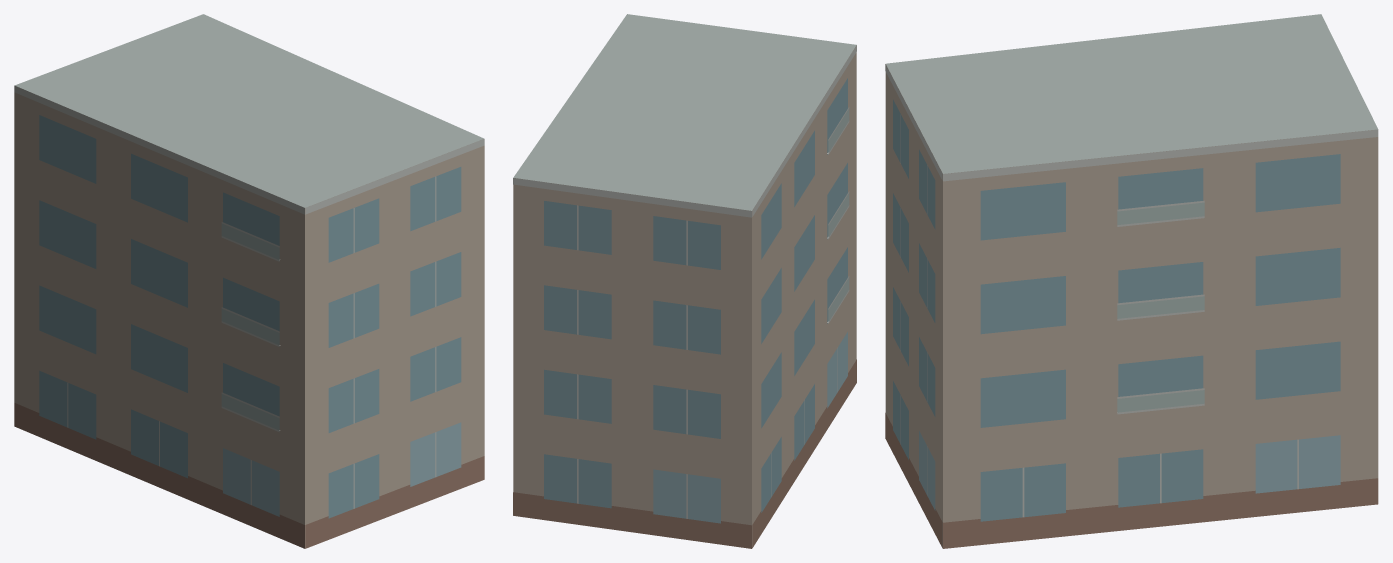
File: survey-upis-33032766.glb
3 renders of one model, left to right at view 1: azimuth 30°, elevation 25°; view 2: azimuth 150°, elevation 25°; view 3: azimuth 270°, elevation 25°, orthographic. The views are drawn at different scales.
Visible parts, largest first — view 1: survey-upis-33032766.tmp; view 2: survey-upis-33032766.tmp; view 3: survey-upis-33032766.tmp.
Part boxes in pixels (x1,y1,x2,y2): survey-upis-33032766.tmp: (14,14,484,548); survey-upis-33032766.tmp: (513,14,856,548); survey-upis-33032766.tmp: (885,14,1378,548).
Size of the model in its own units: 11.17 by 12.2 by 14.55.
